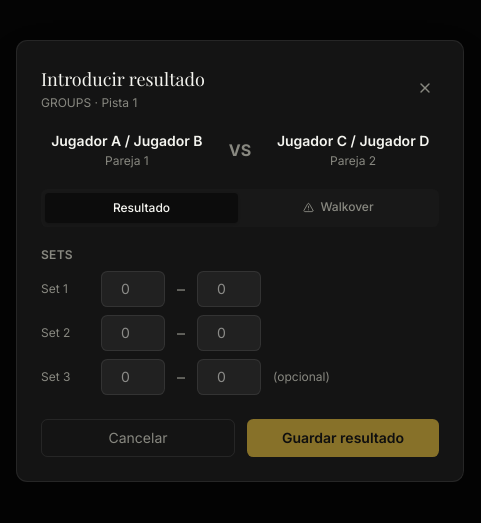
ResultModal › Walkover (A2) › al cambiar a modo Walkover muestra los 2 botones de pareja ganadora
Step 1. Click the button "Walkover" → point(338, 208), box left=242, top=193, right=435, bottom=223
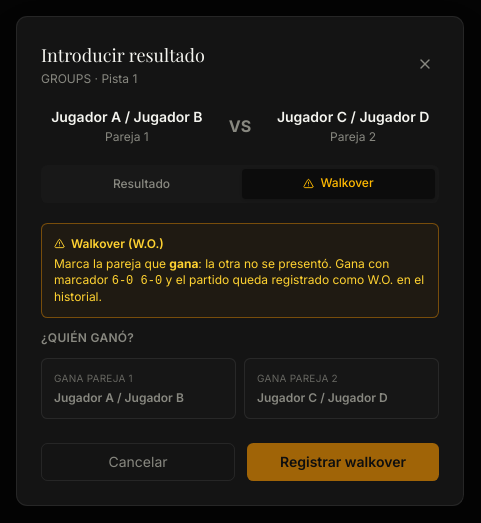
Now the button "Gana pareja 1 Jugador A / Jugador B" is shown, box left=41, top=358, right=236, bottom=419
Now the button "Gana pareja 2 Jugador C / Jugador D" is shown, box left=244, top=358, right=439, bottom=419
